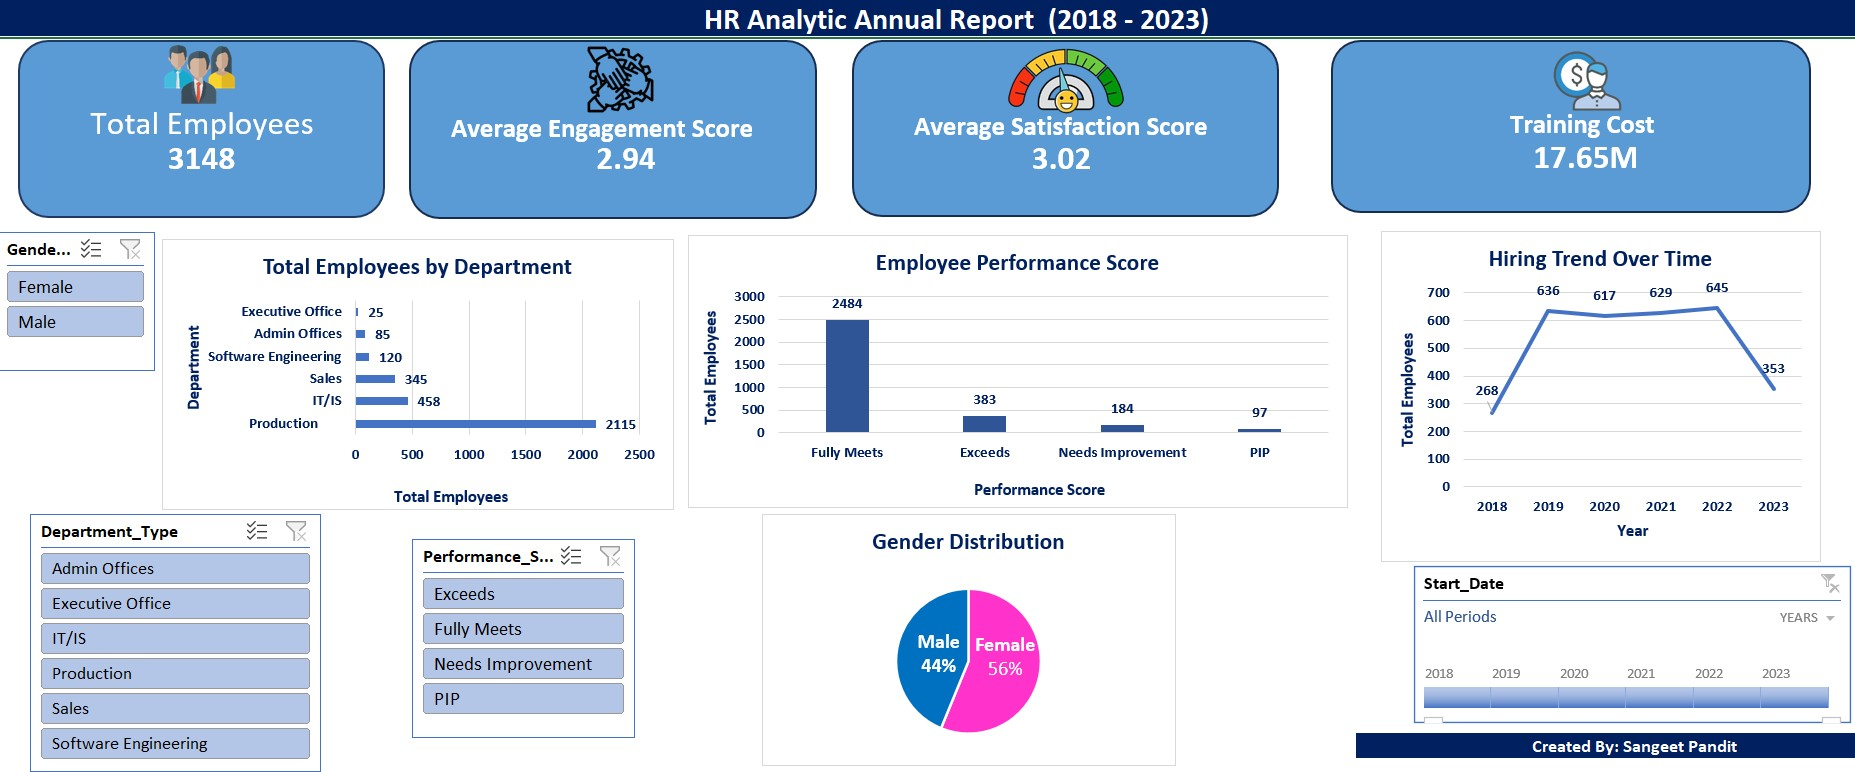

Layout of this report page (visuals, bound fields, positions):
{"tool":"powerbi","page":{"name":"Page 1","canvas":[1400,1000],"ordinal":0},"visuals":[{"type":"textbox","box":[431.4,12.9,468.8,58.5],"z":0},{"type":"clusteredBarChart","title":"Employees by Department","fields":{"Category":["HR Analytic.Department_Type"],"Y":["CountNonNull(HR Analytic.Employee_ID)"]},"box":[11.7,351.9,430.8,340.2],"z":1000},{"type":"clusteredColumnChart","title":"Employee Performance Score","fields":{"Category":["HR Analytic.Performance_Score"],"Y":["CountNonNull(HR Analytic.Employee_ID)"]},"box":[937.5,359.2,424.9,332.9],"z":2000},{"type":"pieChart","title":"Gender Distribution","fields":{"Category":["HR Analytic.Gender_Code"],"Y":["CountNonNull(HR Analytic.Employee_ID)"]},"box":[1000.3,21.9,338.8,287.7],"z":3000},{"type":"lineChart","title":"Hiring Trend Over Time","fields":{"Category":["HR Analytic.Start_Date.Variation.Date Hierarchy.Year","HR Analytic.Start_Date.Variation.Date Hierarchy.Quarter","HR Analytic.Start_Date.Variation.Date Hierarchy.Month","HR Analytic.Start_Date.Variation.Date Hierarchy.Day"],"Y":["CountNonNull(HR Analytic.Employee_ID)"]},"box":[486.3,341.7,357.8,335.9],"z":4000},{"type":"cardVisual","fields":{"Data":["CountNonNull(HR Analytic.Employee_ID)"]},"box":[23.4,71.3,194.1,182.4],"z":5000},{"type":"cardVisual","fields":{"Data":["Avg(HR Analytic.Engagement_Score)"]},"box":[228,71.3,203.4,182.4],"z":6000},{"type":"cardVisual","fields":{"Data":["Avg(HR Analytic.Satisfaction_Score)"]},"box":[431.4,71.3,208.1,182.4],"z":7000},{"type":"cardVisual","fields":{"Data":["Sum(HR Analytic. Training_Cost )"]},"box":[639.5,71.3,194.1,182.4],"z":8000},{"type":"image","box":[92.4,93.5,56.1,46.8],"z":9000},{"type":"image","box":[312.2,93.5,36.2,31.6],"z":10000},{"type":"image","box":[519.1,88.9,49.1,42.1],"z":11000},{"type":"image","box":[715.5,88.9,42.1,37.4],"z":12000},{"type":"slicer","fields":{"Values":["HR Analytic.Gender_Code"]},"box":[127,736,203,154.8],"z":13000},{"type":"slicer","fields":{"Values":["HR Analytic.Department_Type"]},"box":[512.6,709.7,245.3,207.4],"z":14000},{"type":"slicer","fields":{"Values":["HR Analytic.Start_Date.Variation.Date Hierarchy.Year"]},"box":[312.5,946.3,540.3,36.5],"z":15000},{"type":"textbox","box":[1000.3,922.9,370.9,48.2],"z":16000}]}

Visuals, with their boxes on the page's 1400x1000 design canvas (x1, y1, x2, y2). These are canvas units, not pixel positions in the 1855x772 screenshot, which may show the page scaled, cropped or inside an application window:
textbox: box(431, 13, 900, 71)
"Employees by Department" clusteredBarChart: box(12, 352, 442, 692)
"Employee Performance Score" clusteredColumnChart: box(938, 359, 1362, 692)
"Gender Distribution" pieChart: box(1000, 22, 1339, 310)
"Hiring Trend Over Time" lineChart: box(486, 342, 844, 678)
cardVisual - CountNonNull(HR Analytic.Employee_ID): box(23, 71, 218, 254)
cardVisual - Avg(HR Analytic.Engagement_Score): box(228, 71, 431, 254)
cardVisual - Avg(HR Analytic.Satisfaction_Score): box(431, 71, 640, 254)
cardVisual - Sum(HR Analytic. Training_Cost ): box(640, 71, 834, 254)
image: box(92, 94, 148, 140)
image: box(312, 94, 348, 125)
image: box(519, 89, 568, 131)
image: box(716, 89, 758, 126)
slicer - HR Analytic.Gender_Code: box(127, 736, 330, 891)
slicer - HR Analytic.Department_Type: box(513, 710, 758, 917)
slicer - HR Analytic.Start_Date.Variation.Date Hierarchy.Year: box(312, 946, 853, 983)
textbox: box(1000, 923, 1371, 971)
